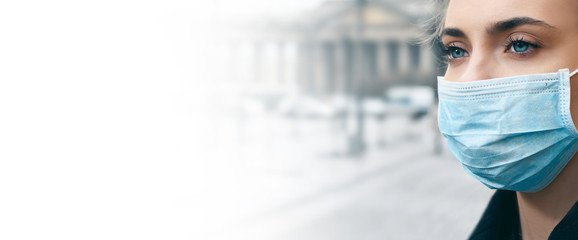mask: (420, 4, 578, 198)
